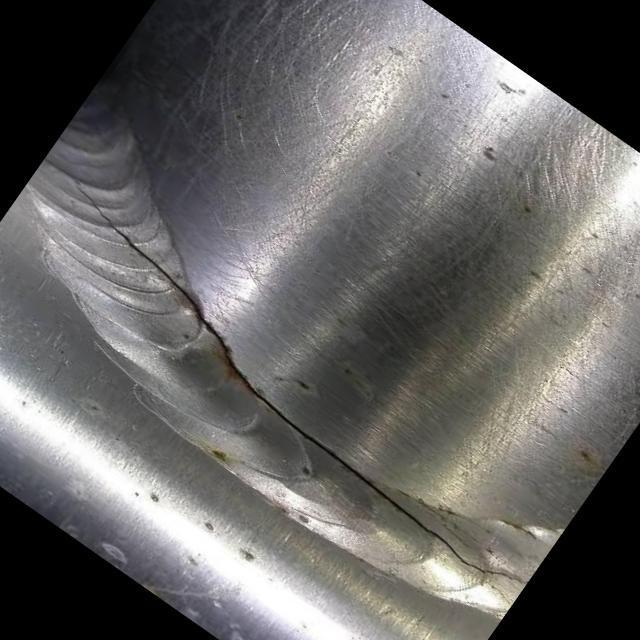defect: (63, 169, 525, 585)
